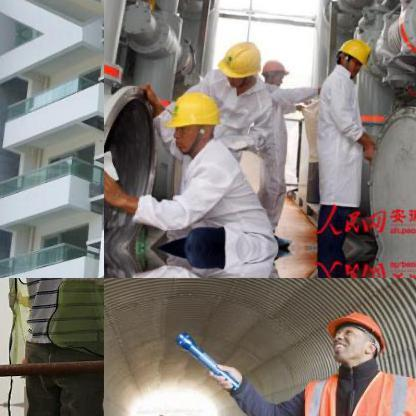Helmet: (321, 304, 385, 370), (165, 90, 219, 154), (215, 34, 265, 90), (333, 34, 371, 74), (258, 54, 288, 86)
